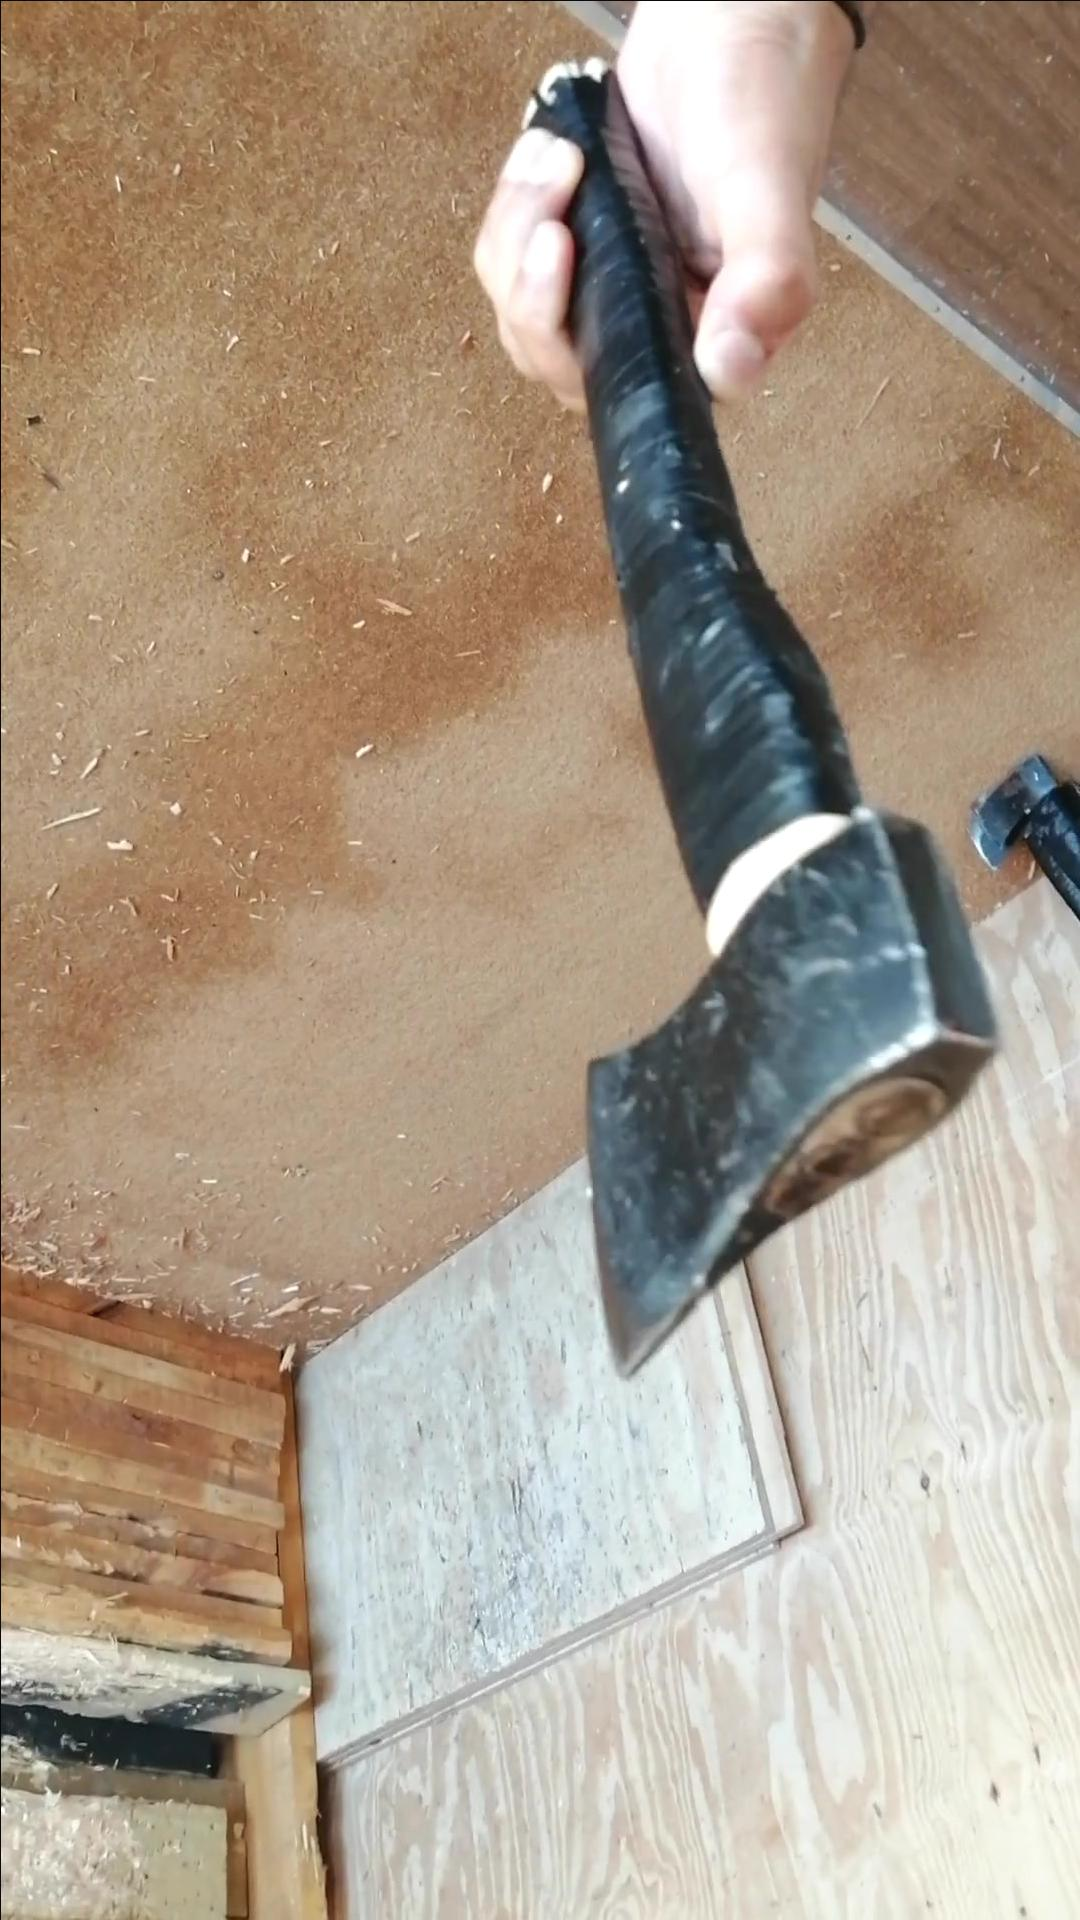Hand Axe: (580, 807, 1002, 1387)
